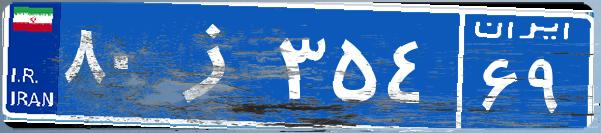0: (110, 28, 158, 105)
3: (273, 28, 330, 110)
4: (385, 28, 445, 110)
5: (330, 28, 385, 110)
6: (475, 38, 525, 113)
8: (57, 26, 110, 107)
9: (525, 38, 570, 115)
ز: (158, 15, 273, 115)
